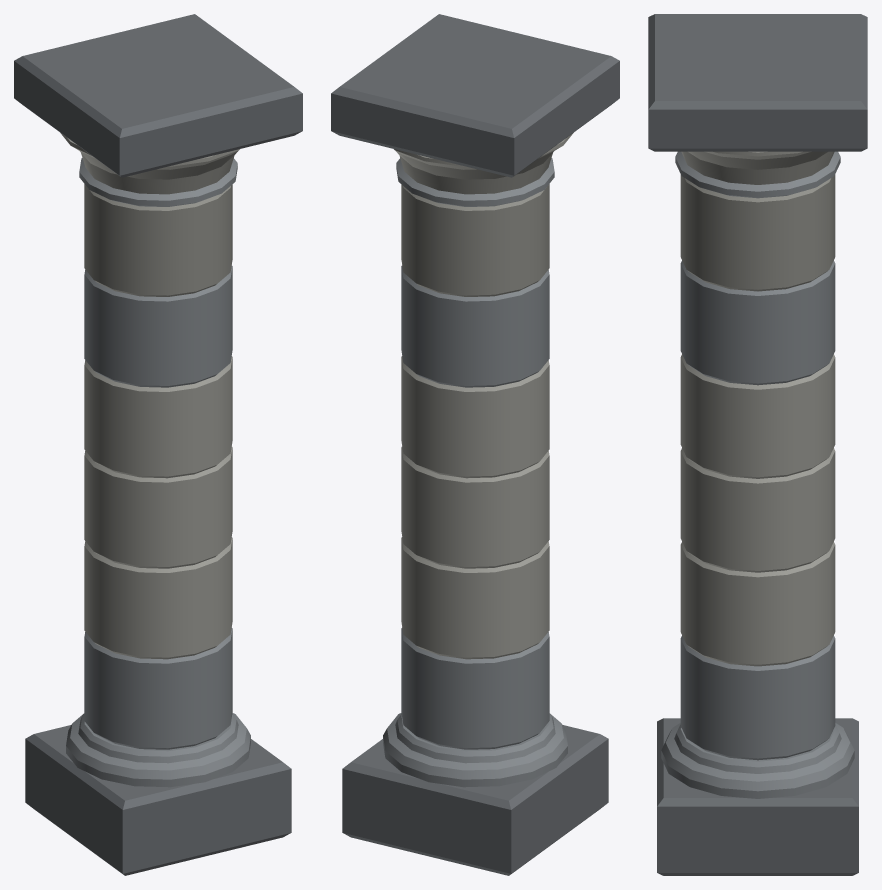
Rendered from SM_LPD_Struct_PillarRound_01.fbx.
3 views of the same model, side by side, from view 1: azimuth 30°, elevation 25°; view 2: azimuth 150°, elevation 25°; view 3: azimuth 270°, elevation 25° (orthographic). The views are drawn at different scales.
Parts seen in each view (by area): view 1: SM_LPD_Struct_PillarRound_01; view 2: SM_LPD_Struct_PillarRound_01; view 3: SM_LPD_Struct_PillarRound_01.
Boxes of the visible parts, x1,y1,x2,y2 form: SM_LPD_Struct_PillarRound_01: [14, 14, 302, 875]; SM_LPD_Struct_PillarRound_01: [331, 14, 619, 875]; SM_LPD_Struct_PillarRound_01: [648, 14, 867, 875].
Bounding box in the file's own units: 1.02 × 4 × 1.02.
